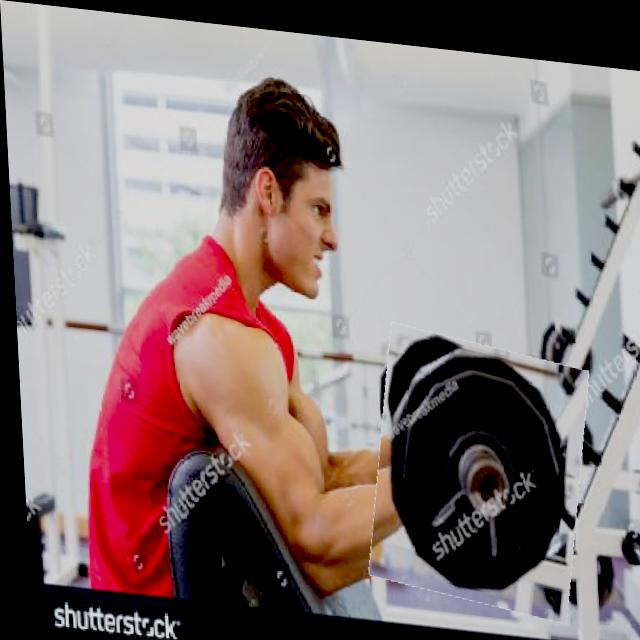barbell: (362, 318, 588, 609)
